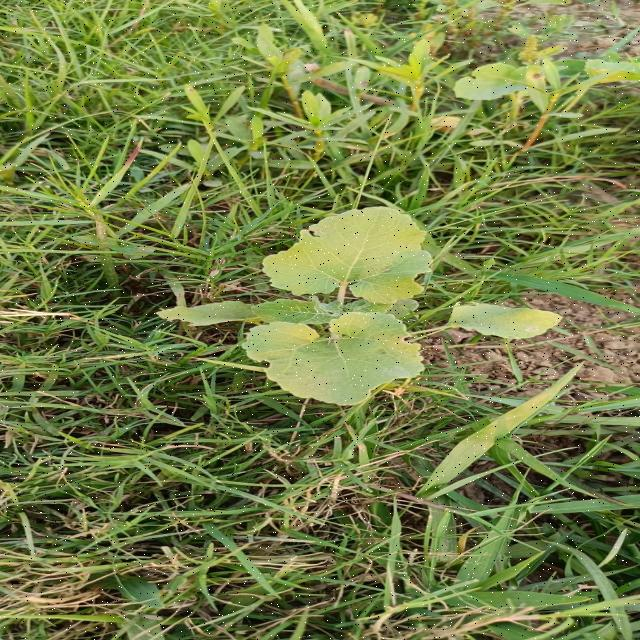plant: (160, 208, 432, 405), (449, 304, 561, 339)
